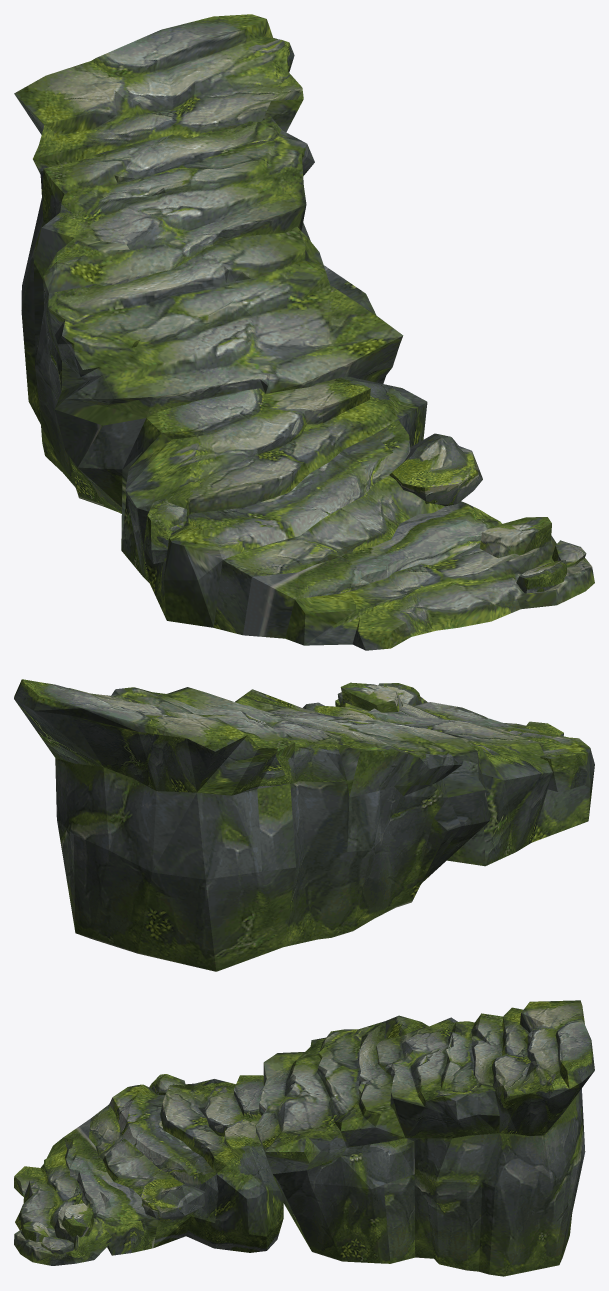
Rendered from xl_shitou_12.FBX.
The picture shows the model from 3 angles, top to bottom: view 1: azimuth 30°, elevation 25°; view 2: azimuth 150°, elevation 25°; view 3: azimuth 270°, elevation 25°; orthographic projection. The views are drawn at different scales.
Visible parts, largest first — view 1: xl_shitou_12; view 2: xl_shitou_12; view 3: xl_shitou_12.
Part boxes in pixels (x1=…): xl_shitou_12: x1=14, y1=14, x2=594, y2=650; xl_shitou_12: x1=14, y1=679, x2=594, y2=971; xl_shitou_12: x1=14, y1=1000, x2=594, y2=1276.
Bounding box in the file's own units: 6570 × 4604 × 10960.
